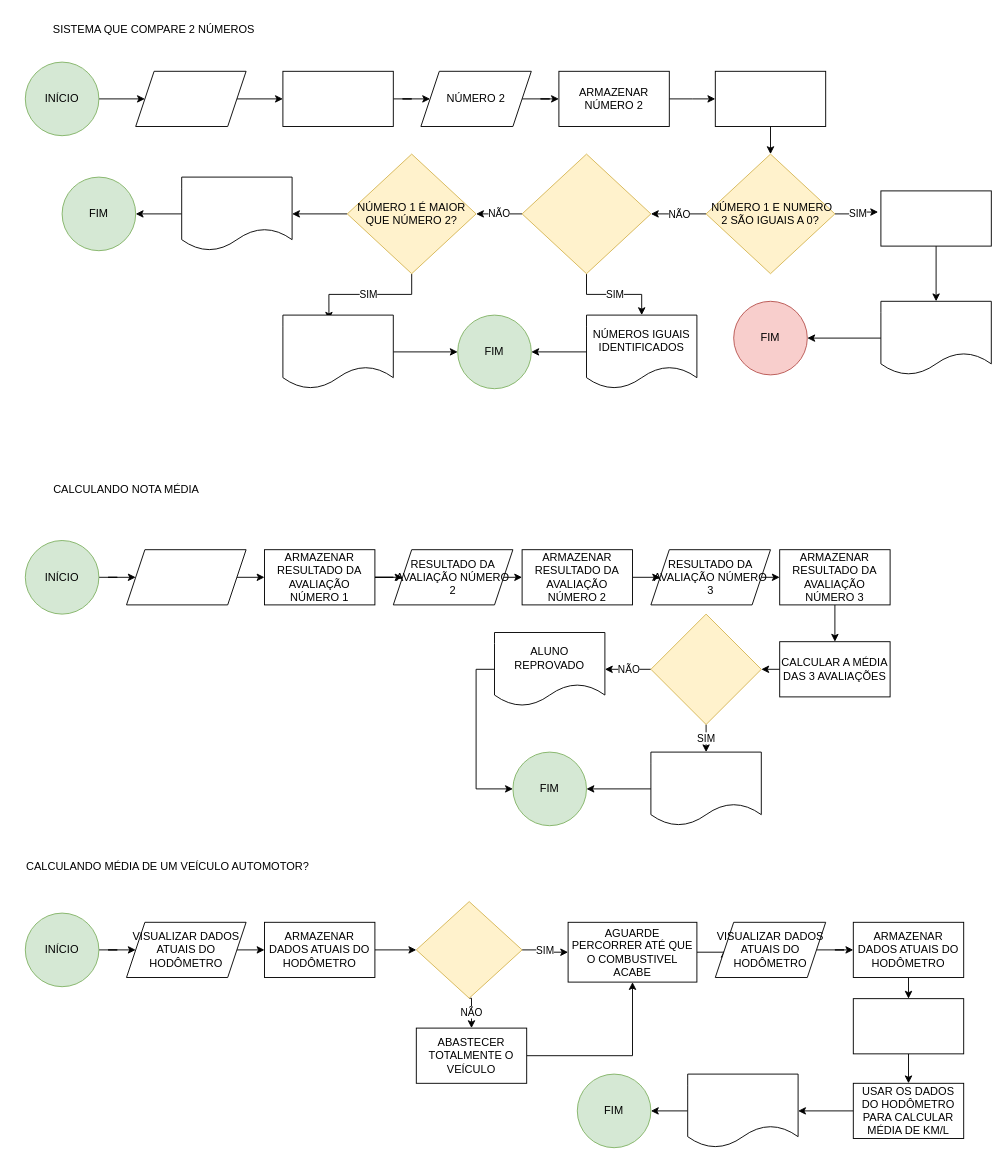
This 1007x1164 diagram has some shape labels left out. Here are the shapes that lost their labels. From the top down, the centre of each, then its label:
At point 190,98: "NÚMERO 1".
At point 337,98: "ARMAZENAR NÚMERO 1".
At point 770,98: "COMPARAR NÚMERO 1 E NÚMERO 2".
At point 236,213: "MOSTRAR QUE NÚMERO 2 É MAIOR QUE NÚMERO 1".
At point 586,213: "NÚMERO 1 E NÚMERO 2 SÃO IGUAIS?".
At point 935,218: "NÃO COMPARAR".
At point 337,351: "MOSTAR QUE NÚMERO 1 É MAIOR QUE NÚMERO 2".
At point 935,337: "NÚMERO INVÁLIDO INSERIDO".
At point 186,577: "RESULTADO DA AVALIAÇÃO NÚMERO 1".
At point 705,668: "RESULTADO IGUAL OU MAIOR QUE 7?".
At point 705,788: "ALUNO APROVADO".
At point 468,949: "VEÍCULO POSSUI O TANQUE CHEIO?".
At point 908,1026: "COMPARAR OS DADOS OBTIDOS PELO HODÔMETRO".
At point 742,1110: "EXIBIR RESULTADOS".
